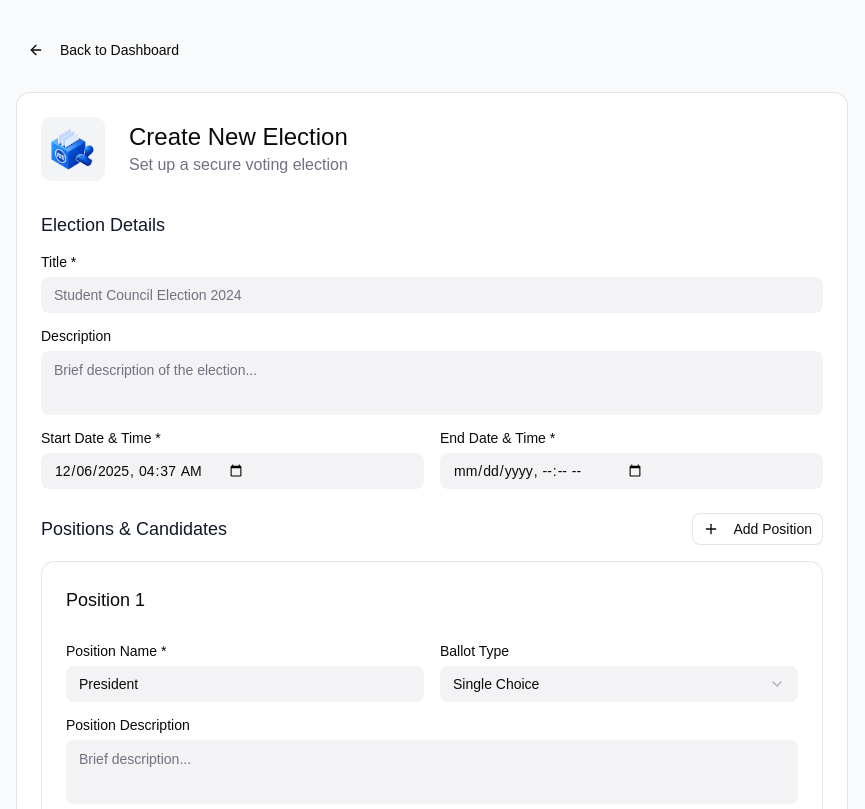
CreateElection Component Validation › detects and shows error for duplicate position names
Click the button "Add Position" at (758, 529), box x1=692 y1=513 x2=823 y2=545
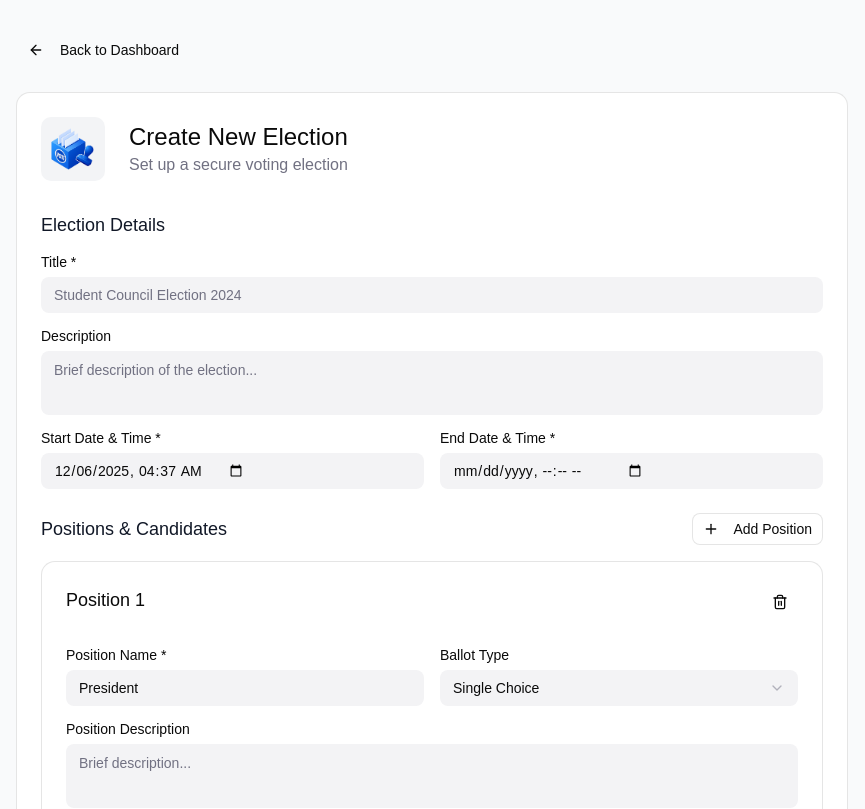
Check: the number of fields with placeholder "e.g., President, Secretary" is 2
Replace the text in the field with placeholder "e.g., President, Secretary" with "Chairperson" at (245, 688), box x1=66 y1=670 x2=424 y2=706
(page scrolled)
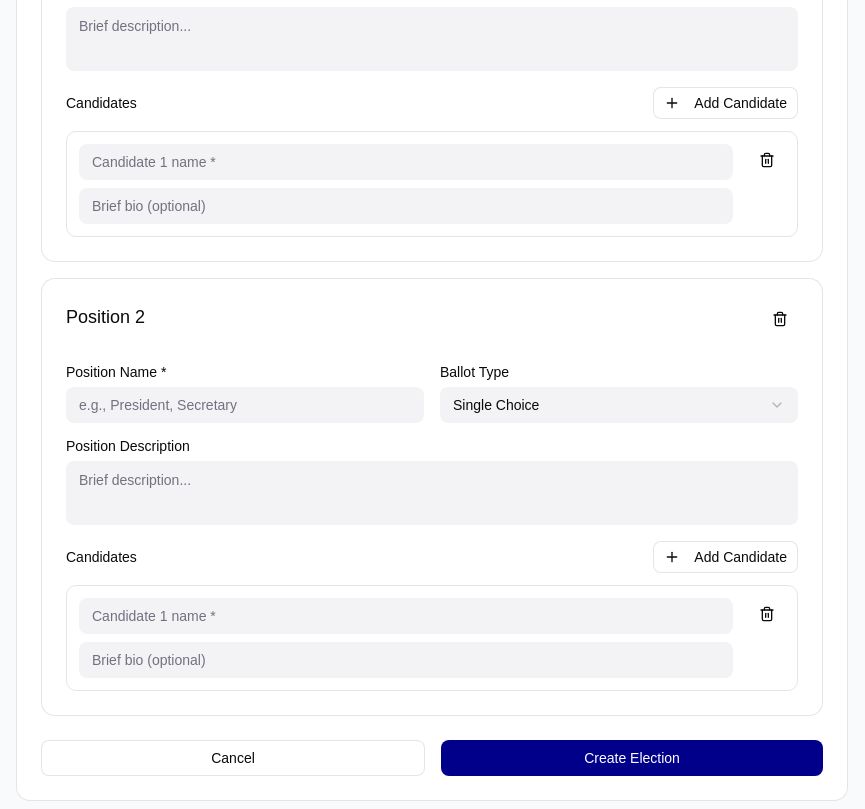
Type "Chairperson" into the field with placeholder "e.g., President, Secretary" at (245, 405), box x1=66 y1=387 x2=424 y2=423
(page scrolled)
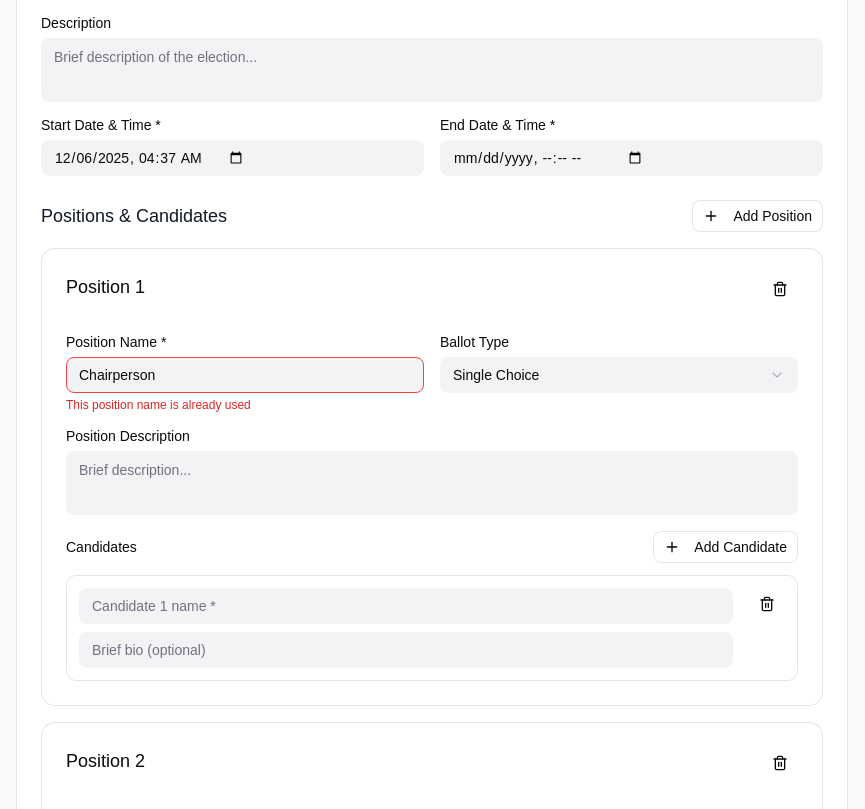
Check: the text "This position name is already used" is shown, box x1=66 y1=398 x2=251 y2=412
